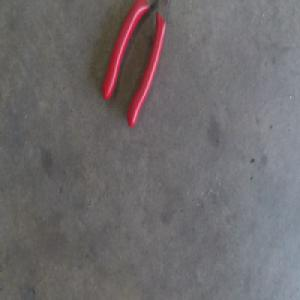Pliers: (101, 0, 170, 126)
